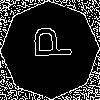P: (25, 25, 72, 60)
